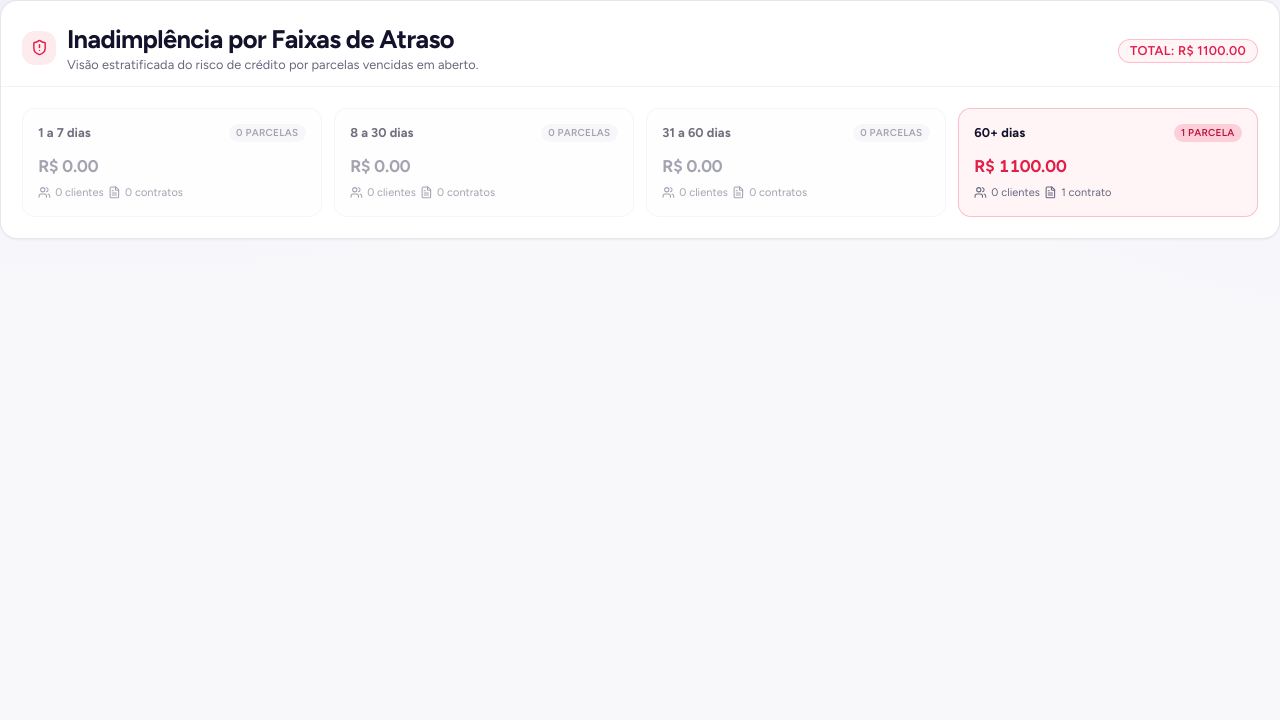
Test: Suíte de Testes — Inadimplência por Faixas de Atraso › 4. Modal e Consistência dos Dados › Ao clicar em um card com cobranças, o modal abre mostrando exatamente as parcelas e o valor correspondente
Clica no card 60+ dias
Click the button "60+ dias" at x=1000, y=133, box [958,108,1258,217]
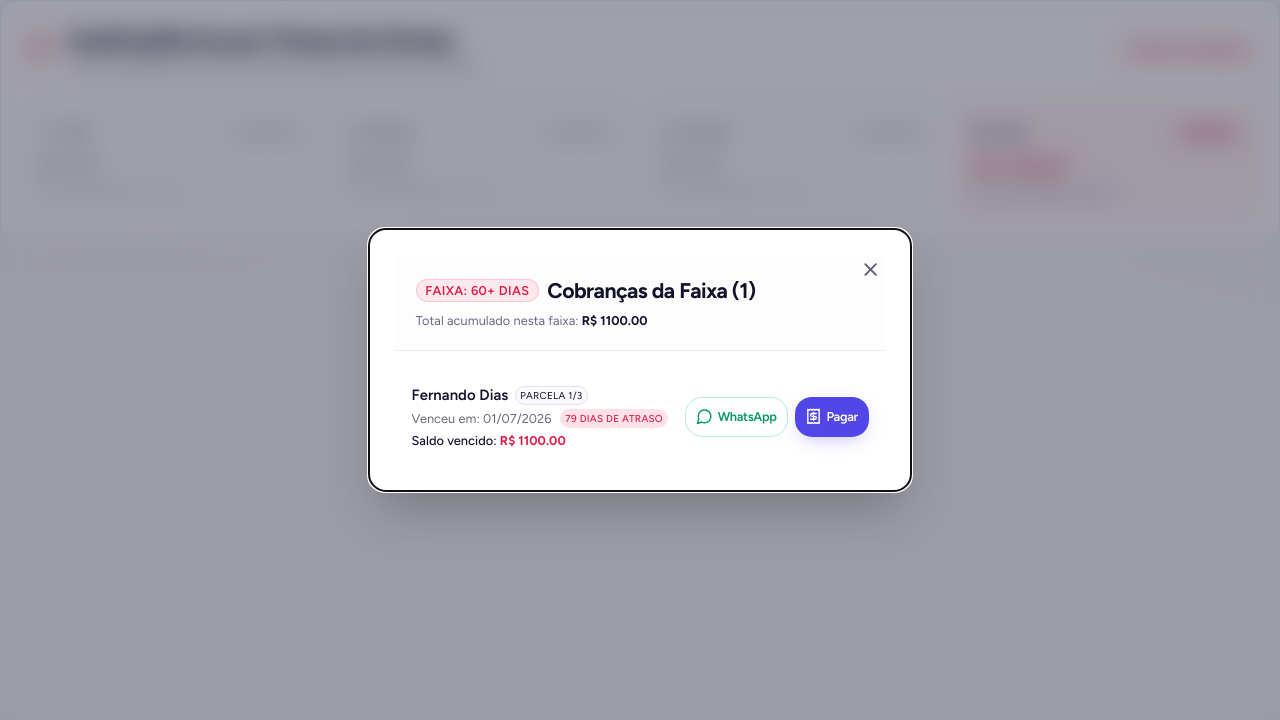
Check: the heading "Cobranças da Faixa (1)" is shown, box [547,276,756,305]
Check: the text "Total acumulado nesta faixa: R$ 1100.00" is shown, box [416,313,648,328]
Check: the text "Fernando Dias" is shown, box [412,385,508,406]
